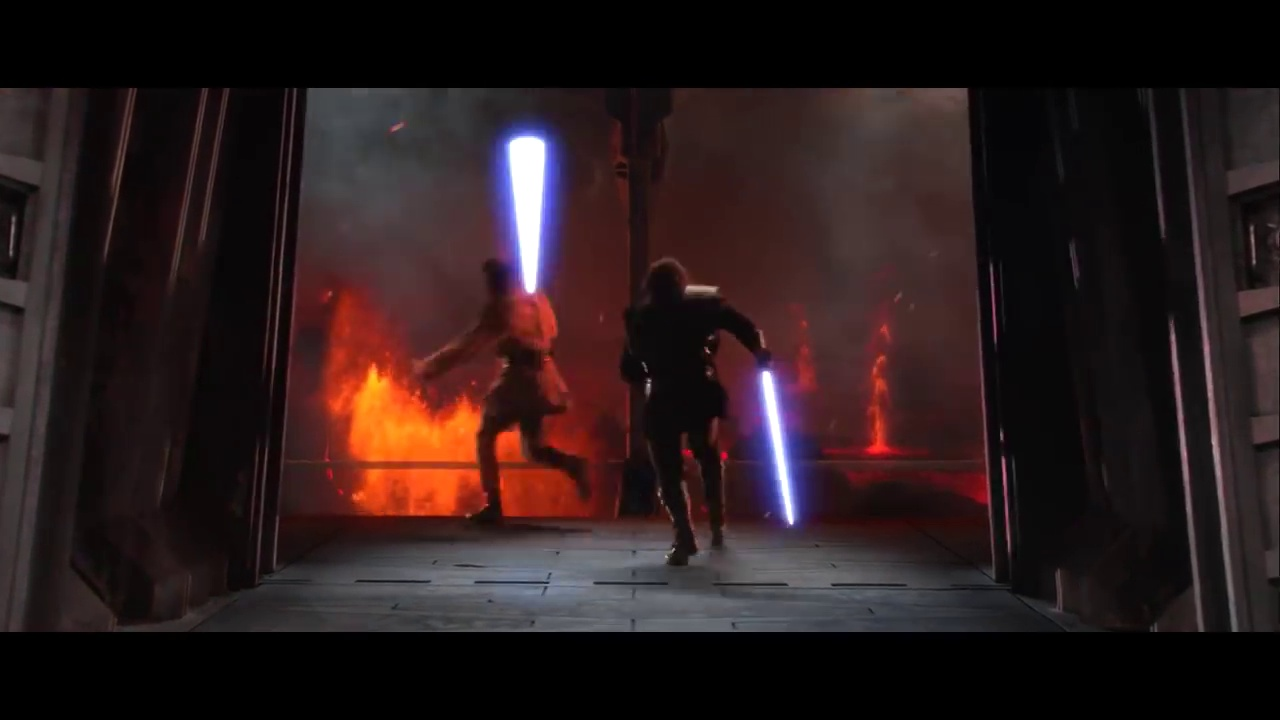lightsaber: (488, 125, 549, 303), (753, 321, 798, 538)
